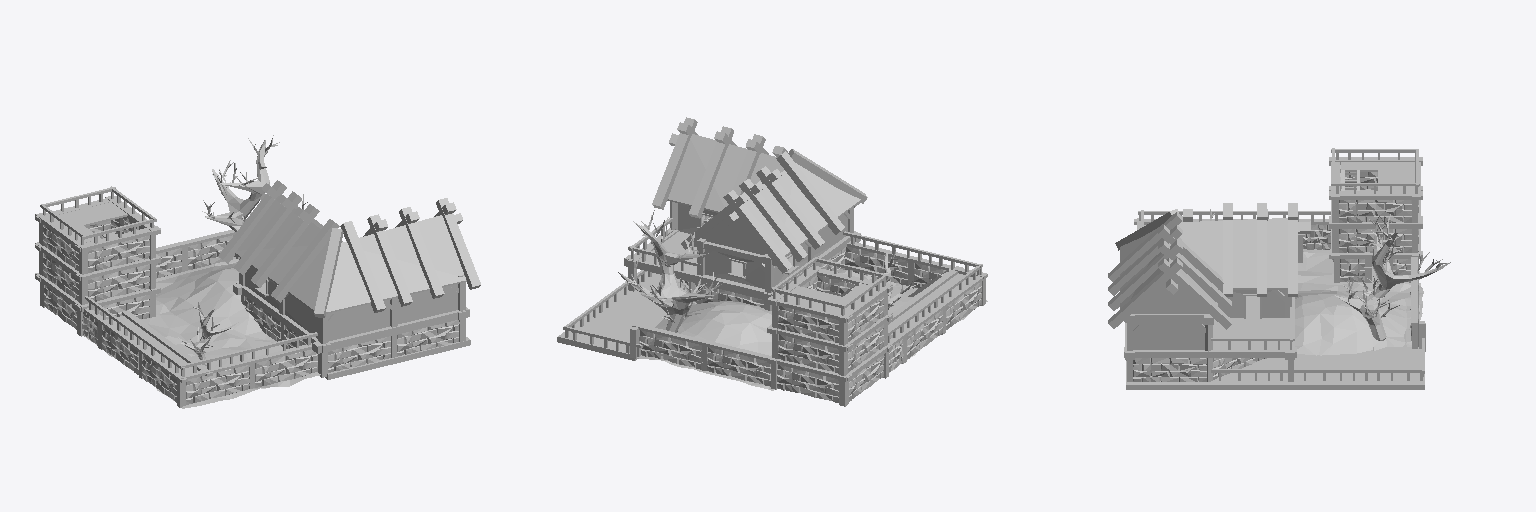
The model's file is scene_simple_1.obj.
3 views of the same model, side by side, from view 1: azimuth 30°, elevation 25°; view 2: azimuth 150°, elevation 25°; view 3: azimuth 270°, elevation 25° (orthographic).
Visible parts, largest first — view 1: Cube, Cube.001_Cube.003, Cube.001_Cube.000, Cube.001_Cube.001; view 2: Cube, Cube.001_Cube.003, Cube.001_Cube.000; view 3: Cube, Cube.001_Cube.003, Cube.001_Cube.000.
Boxes of the visible parts, x1=… form: Cube: x1=35, y1=180, x2=480, y2=407; Cube.001_Cube.003: x1=85, y1=259, x2=320, y2=408; Cube.001_Cube.000: x1=202, y1=135, x2=307, y2=231; Cube.001_Cube.001: x1=178, y1=302, x2=238, y2=363; Cube: x1=557, y1=117, x2=987, y2=406; Cube.001_Cube.003: x1=637, y1=270, x2=987, y2=390; Cube.001_Cube.000: x1=618, y1=210, x2=721, y2=332; Cube: x1=1108, y1=148, x2=1425, y2=389; Cube.001_Cube.003: x1=1295, y1=249, x2=1423, y2=355; Cube.001_Cube.000: x1=1335, y1=214, x2=1450, y2=340.
Size of the model in its own units: 23.83 by 10.19 by 23.5.